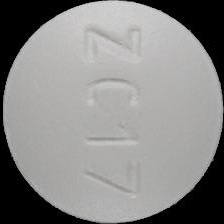21695-103: (0, 0, 224, 224)
